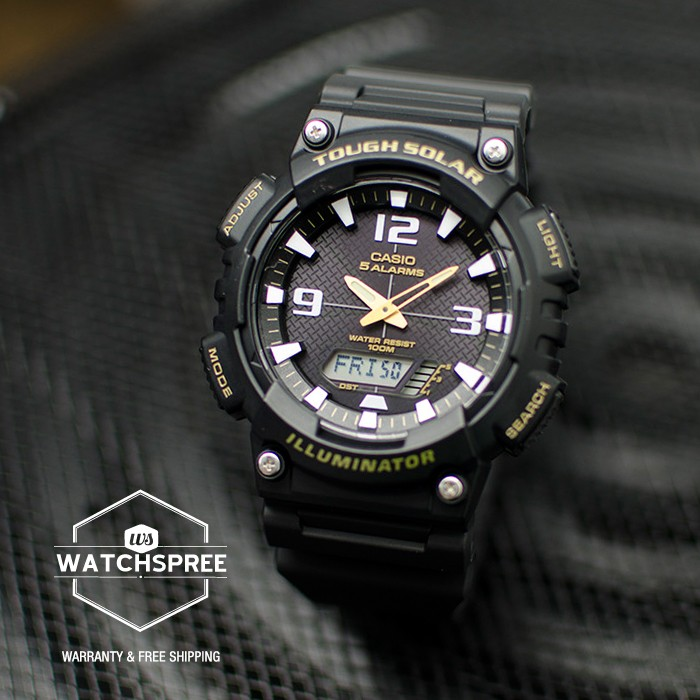clock: (199, 129, 586, 486)
